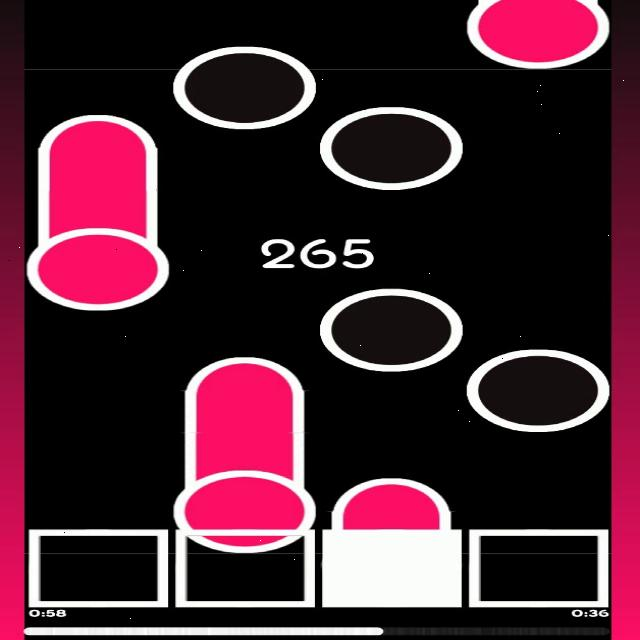end_hold: (181, 348, 308, 408), (331, 471, 451, 522), (38, 107, 158, 157)
note: (316, 101, 466, 191), (464, 347, 612, 434), (174, 43, 318, 129), (321, 288, 464, 370)
start_hold: (25, 199, 174, 314), (171, 454, 313, 558), (464, 0, 614, 70)
